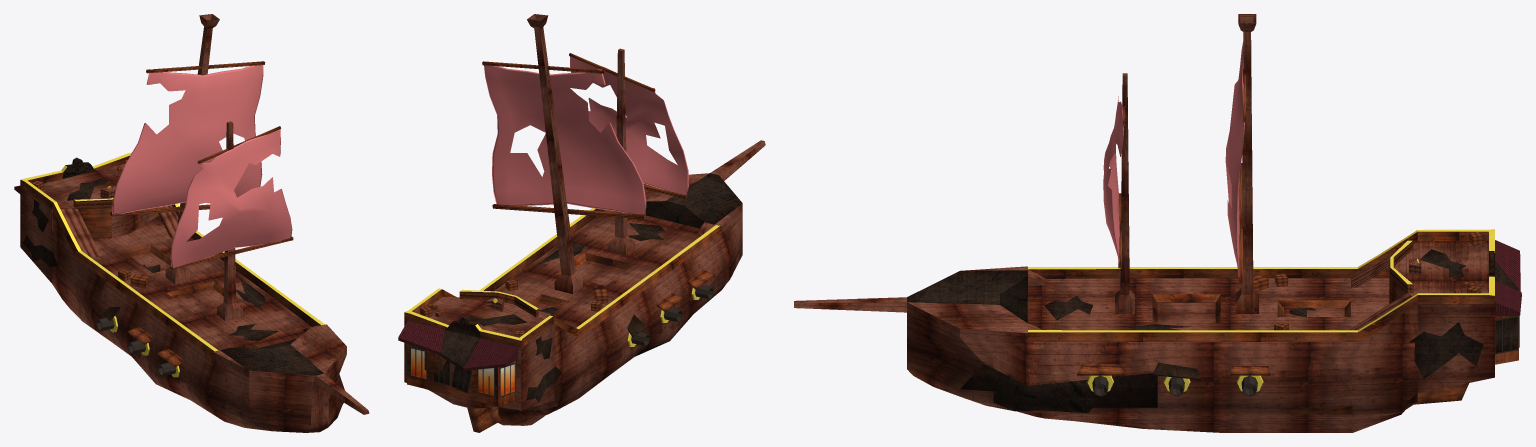
The model's file is EShip30HP.fbx.
The picture shows the model from 3 angles, left to right: view 1: azimuth 30°, elevation 25°; view 2: azimuth 150°, elevation 25°; view 3: azimuth 270°, elevation 25°; orthographic projection. The views are drawn at different scales.
Visible parts, largest first — view 1: pCube1, pCube17, pCube21, pCube2, pCube19, pPlane3, pCube20, pPlane7, pPlane4, pPlane6, pCube4, pCube16 (+1 smaller); view 2: pCube1, pCube17, pCube21, pCube16, pCube4, pCube6, pCube19, pPlane3, pPlane7, pPlane4, pCube51, pCube47 (+1 smaller); view 3: pCube1, pCube17, pPlane1, pCube21, pCube35, pCube6.
Part boxes in pixels (box(x1,y1,x2,y2)): pCube1: box(14, 14, 369, 432); pCube17: box(112, 65, 263, 214); pCube21: box(170, 129, 292, 267); pCube2: box(60, 208, 100, 258); pCube19: box(146, 61, 265, 73); pPlane3: box(23, 235, 57, 266); pCube20: box(170, 236, 293, 269); pPlane7: box(229, 323, 278, 340); pPlane4: box(67, 178, 107, 200); pPlane6: box(236, 278, 266, 310); pCube4: box(73, 198, 113, 209); pCube16: box(110, 204, 210, 216); pCube1: box(398, 14, 765, 425); pCube17: box(484, 65, 646, 214); pCube21: box(570, 56, 688, 195); pCube16: box(492, 204, 646, 219); pCube4: box(459, 289, 538, 317); pCube6: box(467, 406, 501, 432); pCube19: box(482, 61, 605, 73); pPlane3: box(526, 367, 561, 402); pPlane7: box(628, 223, 664, 240); pPlane4: box(468, 314, 526, 325); pCube51: box(500, 364, 514, 395); pCube47: box(478, 368, 493, 395); pCube1: box(794, 14, 1521, 432); pCube17: box(1225, 42, 1244, 277); pPlane1: box(1409, 322, 1483, 378); pCube21: box(1103, 96, 1123, 263); pCube35: box(1495, 317, 1517, 352); pCube6: box(1414, 383, 1468, 404).
Size of the model in its own units: 5.73 by 12.04 by 18.44.
